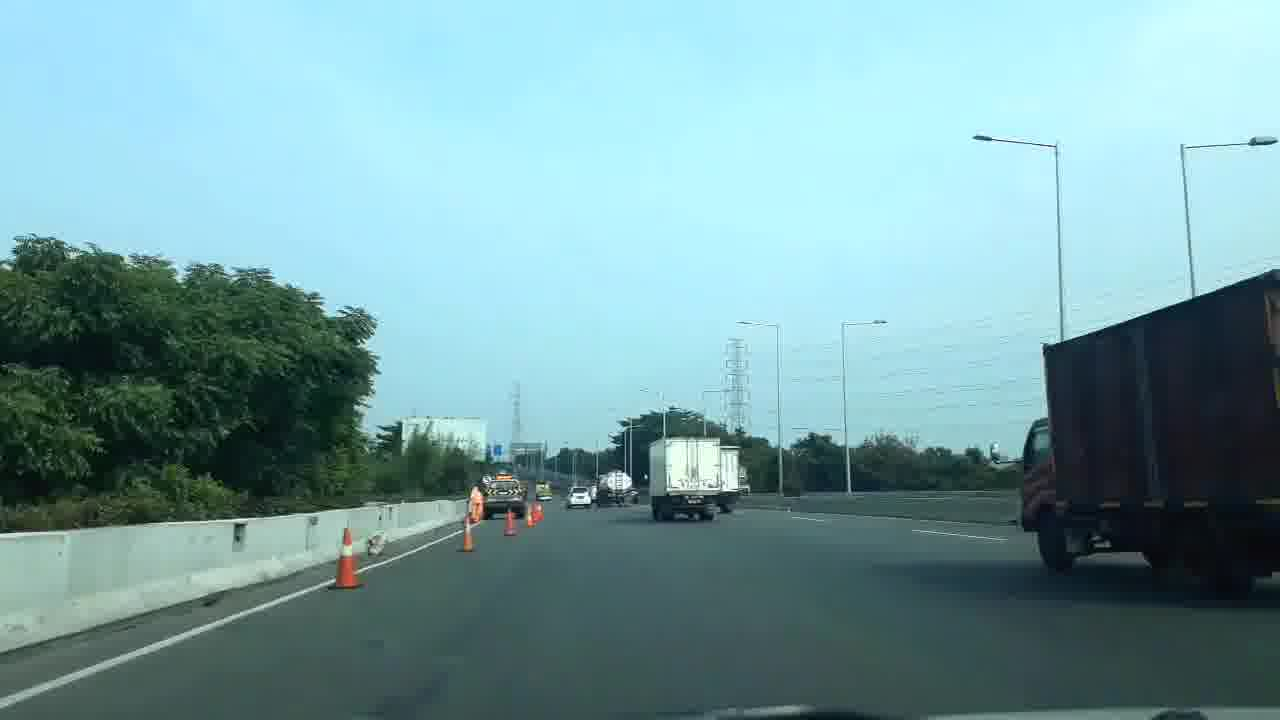plate_positive: (688, 498, 703, 504)
